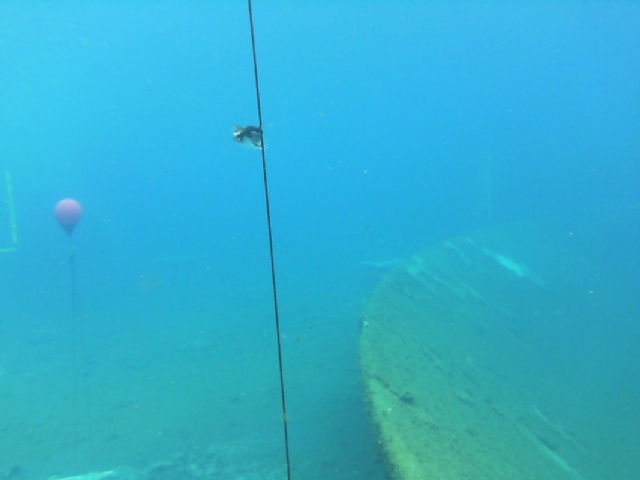buoy_red: (51, 196, 86, 238)
